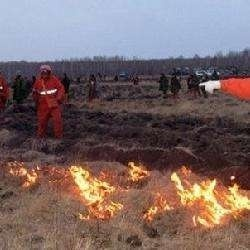fire: (168, 166, 250, 226), (66, 164, 126, 219), (3, 158, 43, 187), (123, 159, 151, 181)
